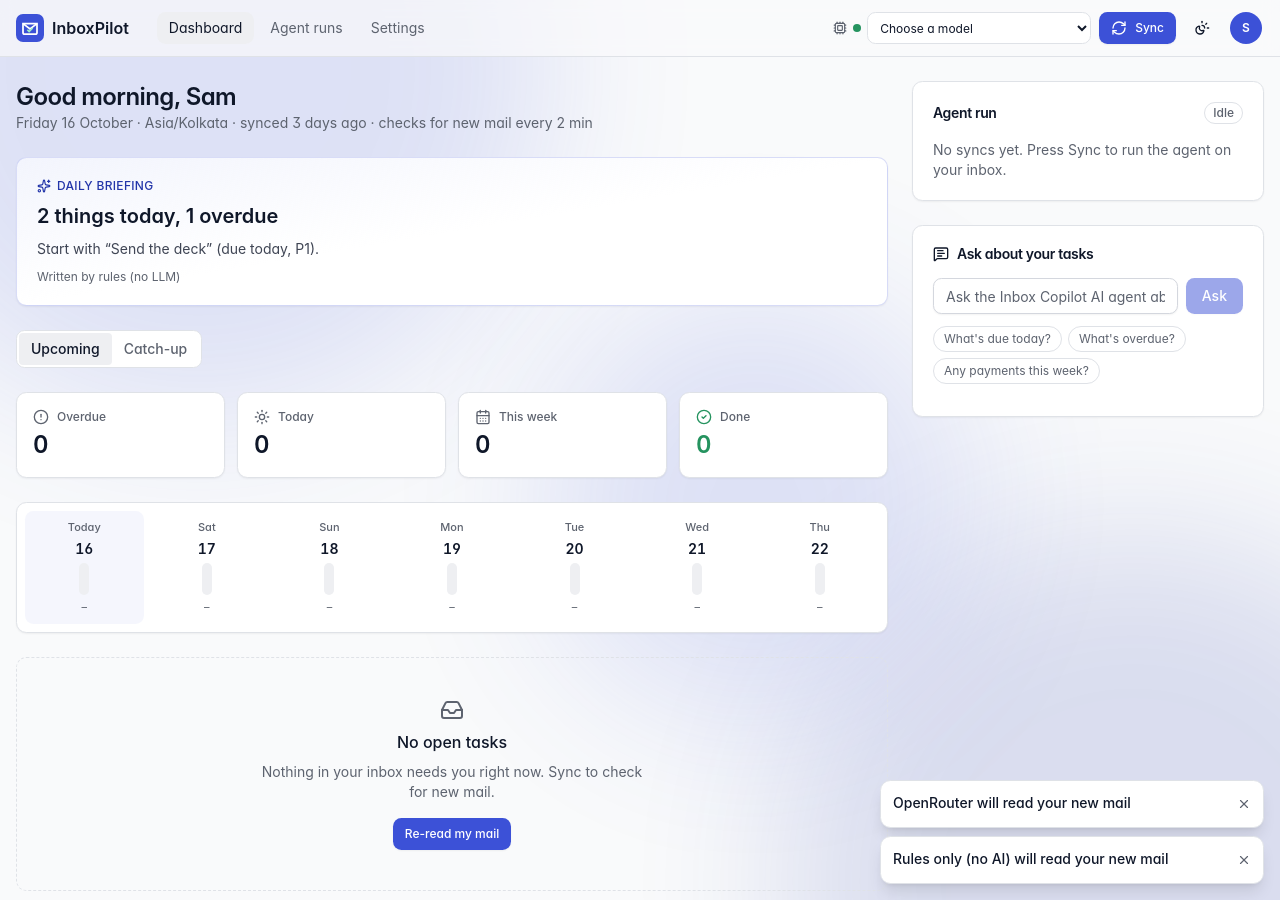
Test: picking a model › offers only Gemini, Groq, OpenRouter and Rules only
This screenshot has width=1280, height=900.
Select "Groq — ready · your key" in the dropdown named "AI model": (979, 28) left=867, top=12, right=1091, bottom=44
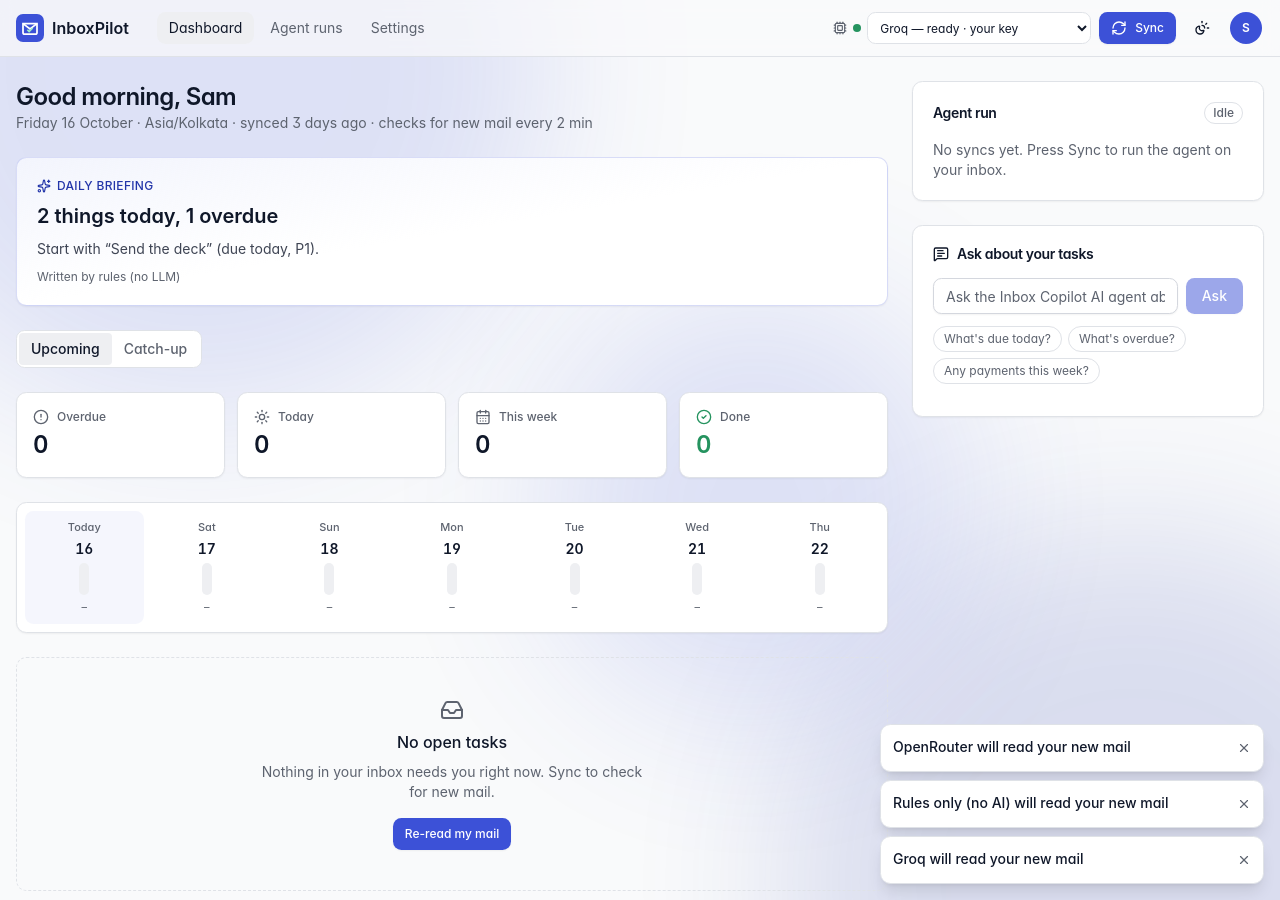
Check: the text "Groq will read your new mail" is shown, box left=893, top=850, right=1084, bottom=867
